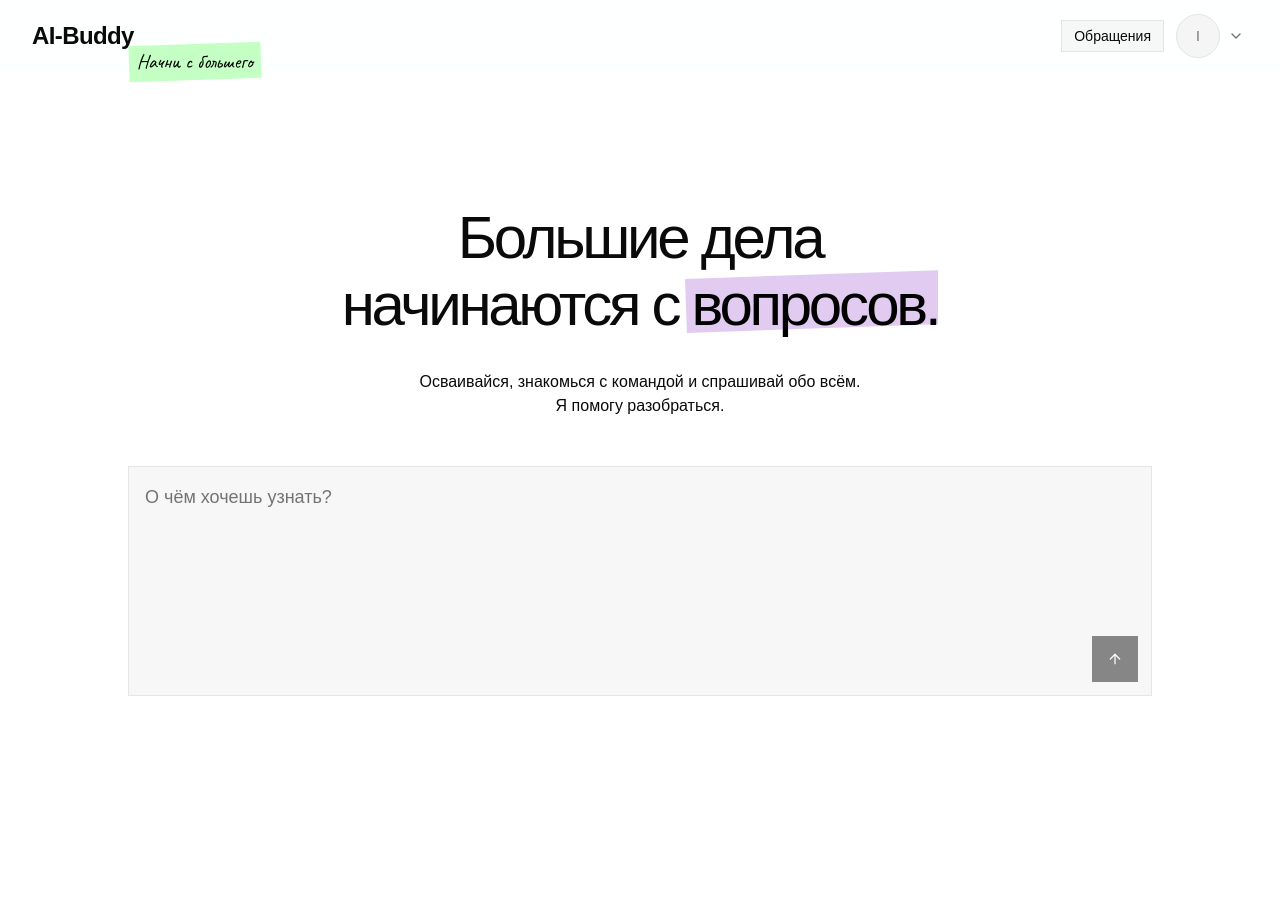
Scenario: ChatPage integration › loads history then switches welcome to conversation with a real JSON response
The width and height of the screenshot is (1280, 900).
Check: the button named "Меню пользователя" is shown, box x1=1172 y1=10 x2=1248 y2=62
Check: the heading is shown, box x1=342 y1=204 x2=938 y2=338
Type "Как начать?" into the text box at x=640, y=547, box x1=129 y1=467 x2=1151 y2=627
Then press Enter
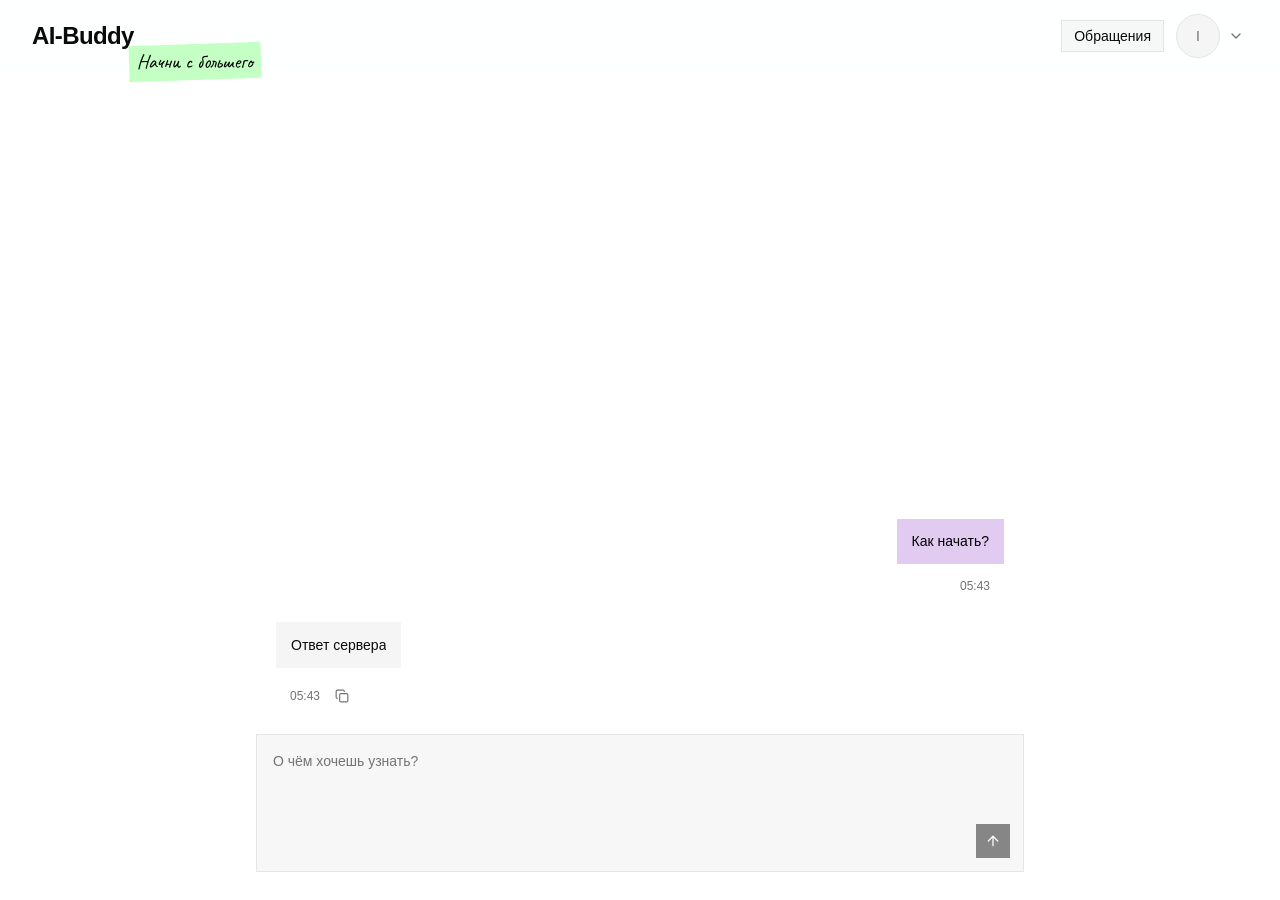
Check: the button "Как начать?" is shown, box x1=897 y1=519 x2=1004 y2=564
Check: the text "Ответ сервера" is shown, box x1=291 y1=633 x2=386 y2=657
Check: the number of elements named "Ответ AI Buddy" is 1, box x1=276 y1=622 x2=401 y2=710
